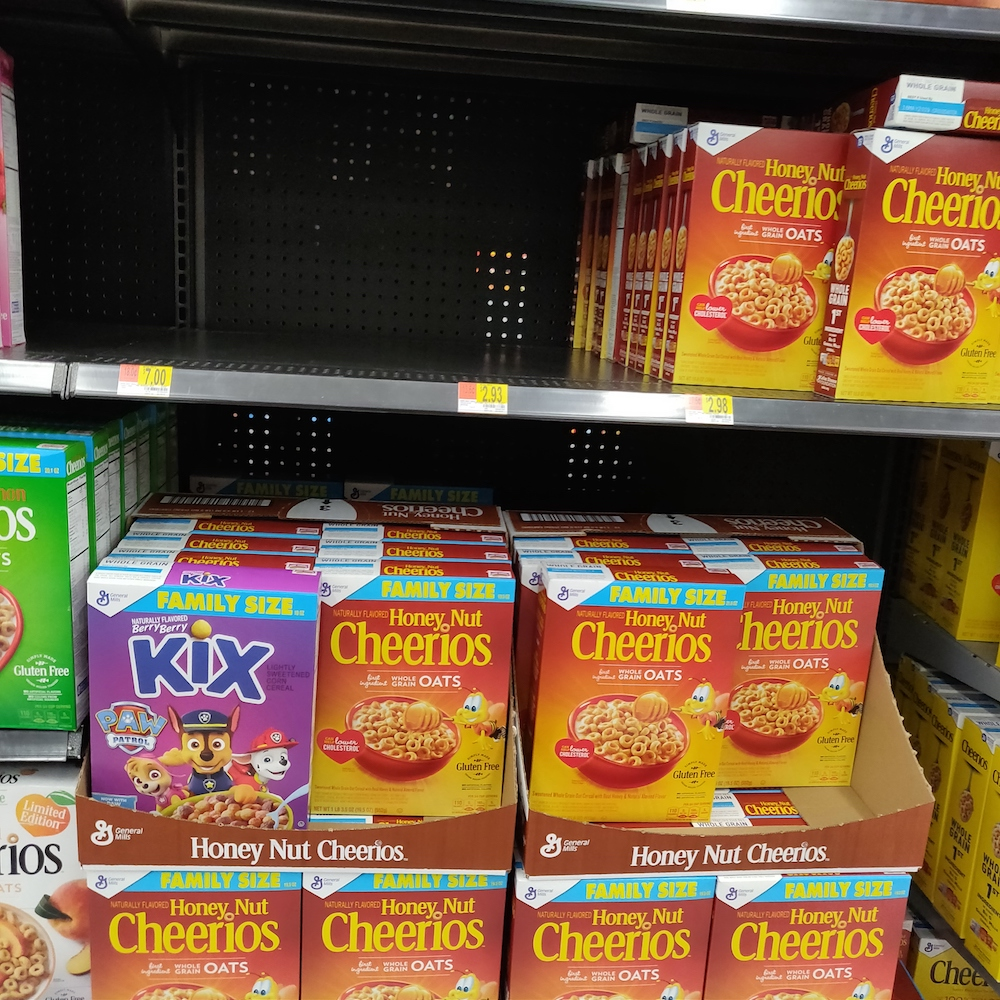Kix Berry -568919964: (87, 581, 319, 837)
